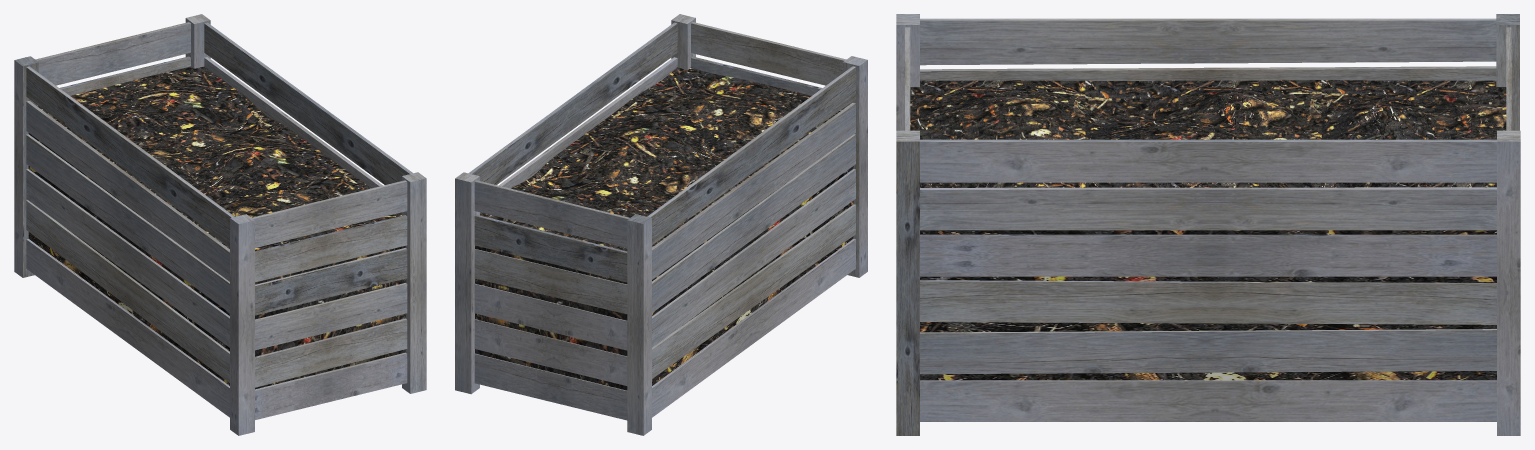
The model's file is compost_bin.glb.
3 renders of one model, left to right at view 1: azimuth 30°, elevation 25°; view 2: azimuth 150°, elevation 25°; view 3: azimuth 270°, elevation 25°, orthographic. The views are drawn at different scales.
Parts seen in each view (by area): view 1: Frames, Compost; view 2: Frames, Compost; view 3: Frames, Compost.
Part boxes in pixels (x1=…): Frames: x1=14, y1=14, x2=426, y2=435; Compost: x1=28, y1=66, x2=405, y2=389; Frames: x1=455, y1=14, x2=867, y2=435; Compost: x1=475, y1=67, x2=853, y2=390; Frames: x1=896, y1=14, x2=1520, y2=435; Compost: x1=910, y1=80, x2=1506, y2=380.
Bounding box in the file's own units: 0.9338 × 1.01 × 1.93.
2 materials, 2 textured.
